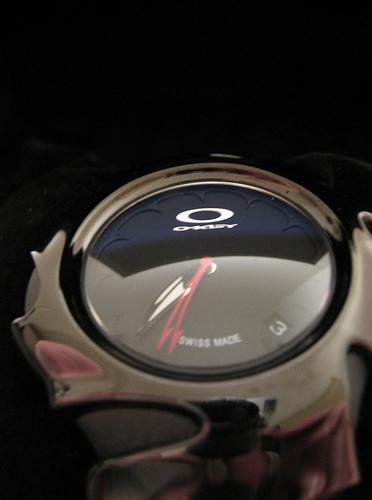watch: (17, 136, 372, 438)
